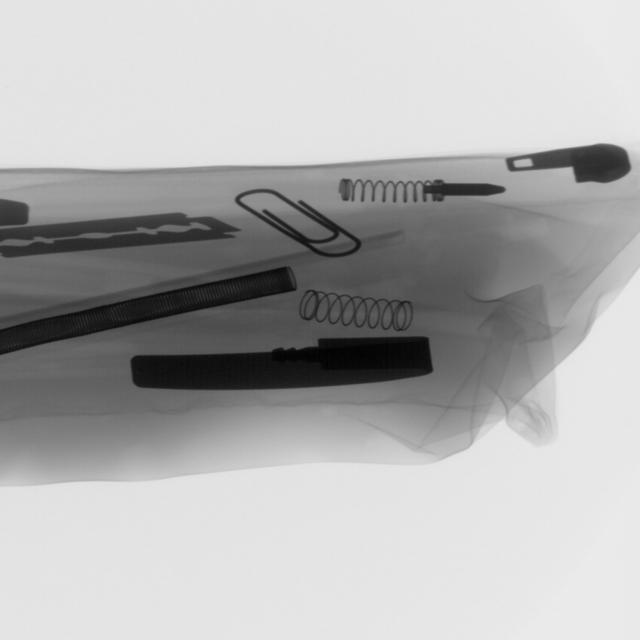razor: (0, 212, 241, 276)
